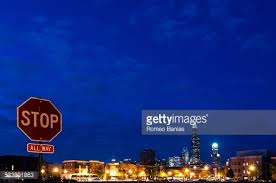stop_sign: (15, 96, 64, 145)
